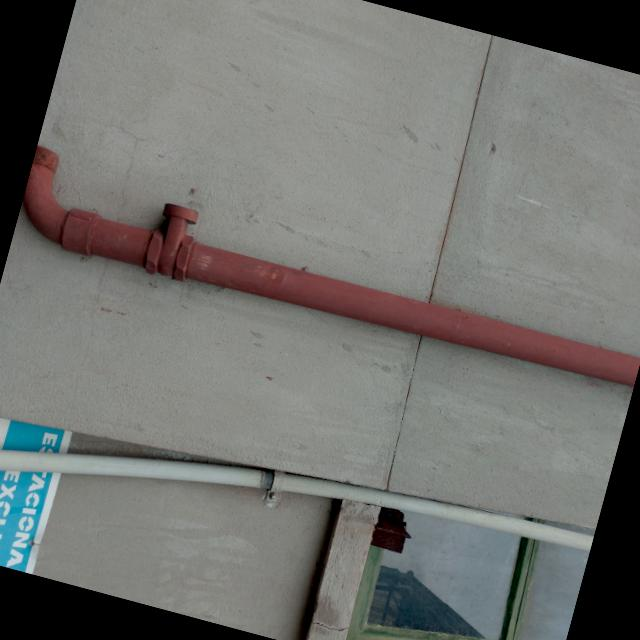gas: (46, 200, 640, 401)
